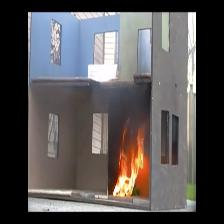fire: (114, 128, 146, 195)
smoke: (112, 88, 149, 125)
